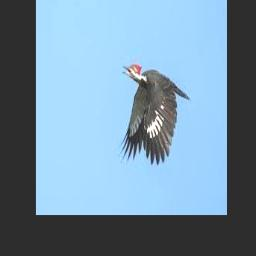Woodpecker: (118, 63, 190, 166)
